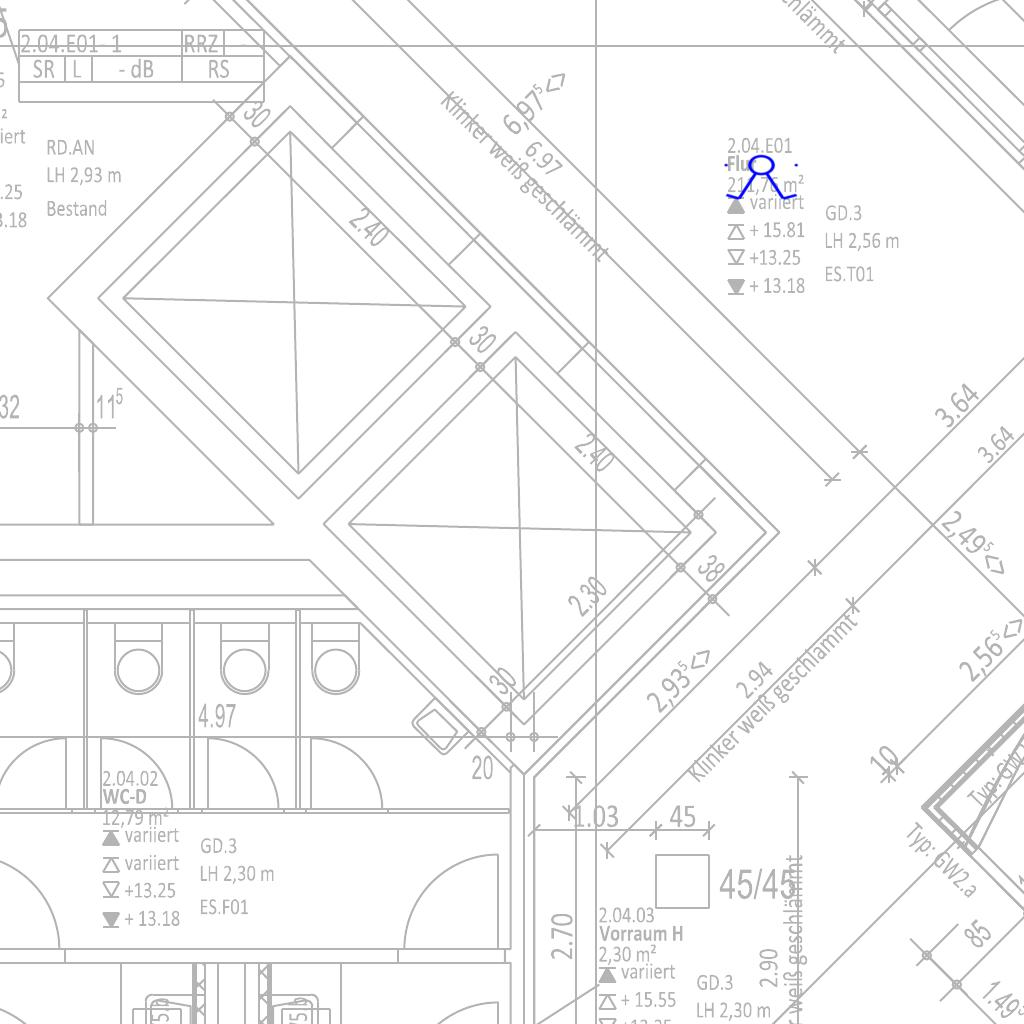Serienschalter: (720, 154, 804, 202)
